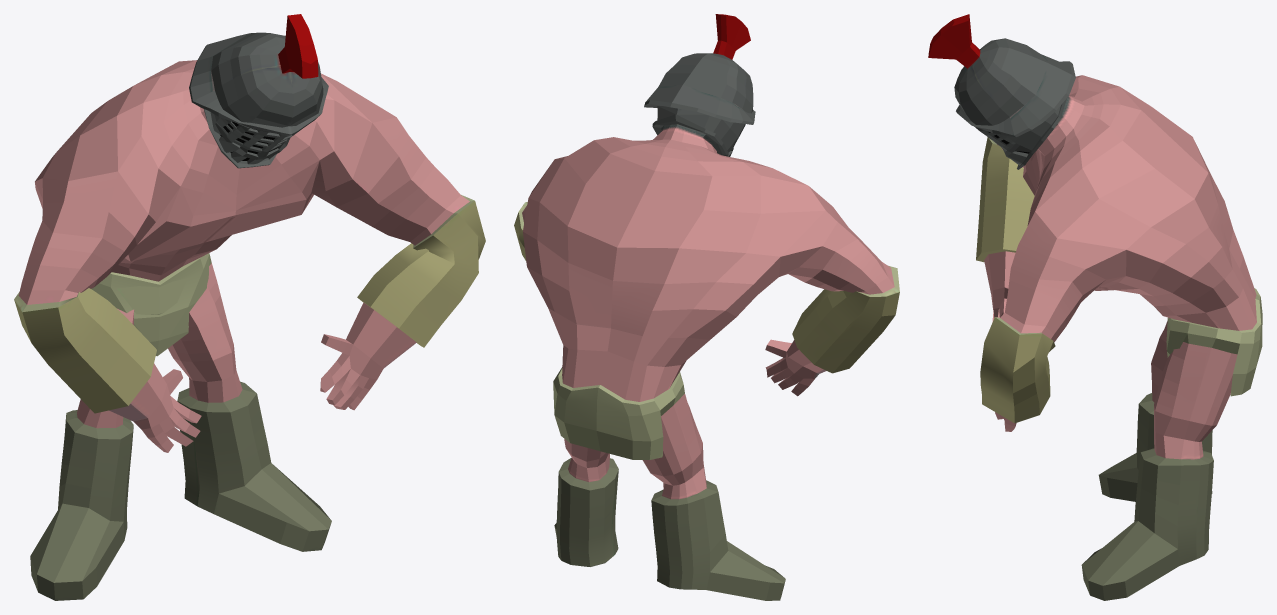
Rendered from GladiatorCelebracion_000490.obj.
3 renders of one model, left to right at view 1: azimuth 30°, elevation 25°; view 2: azimuth 150°, elevation 25°; view 3: azimuth 270°, elevation 25°, orthographic. The views are drawn at different scales.
Parts seen in each view (by area): view 1: Gadiador_Gladiador_H; view 2: Gadiador_Gladiador_H; view 3: Gadiador_Gladiador_H.
Part boxes in pixels (<box>): Gadiador_Gladiador_H: <box>14,14,485,600</box>; Gadiador_Gladiador_H: <box>514,14,899,600</box>; Gadiador_Gladiador_H: <box>928,14,1262,600</box>.
Bounding box in the file's own units: 5.06 × 6.4 × 3.6.
Materials: 1 (1 with a texture image).
